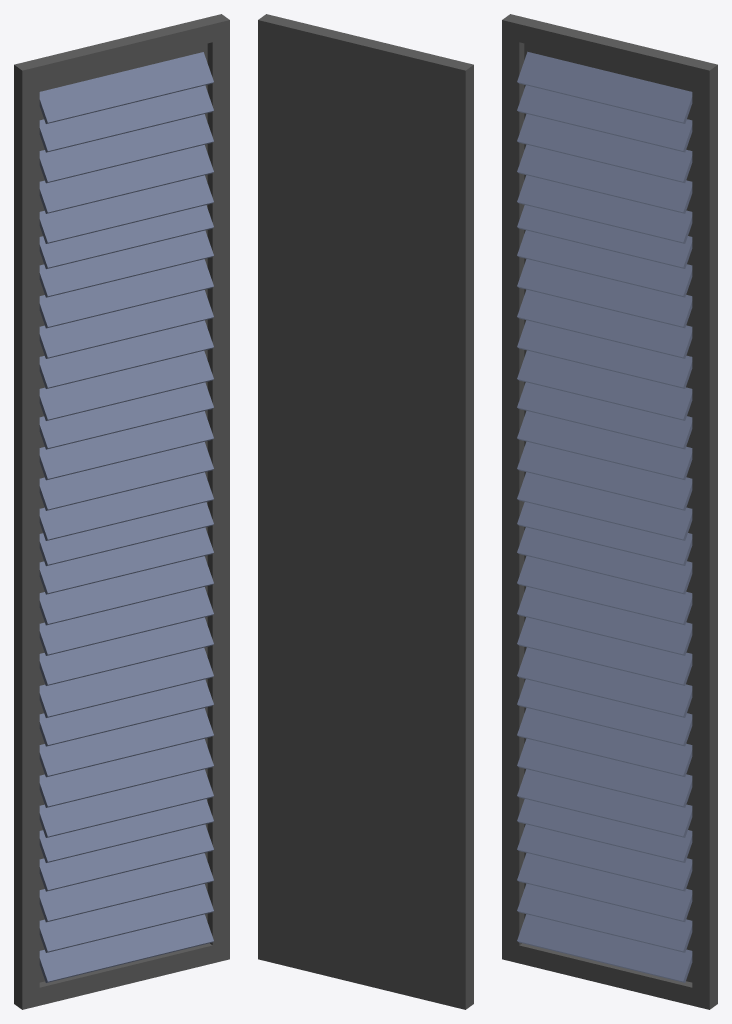
File: SM_exterior_wall_sp_01.fbx
3 views of the same model, side by side, from view 1: azimuth 30°, elevation 25°; view 2: azimuth 150°, elevation 25°; view 3: azimuth 330°, elevation 25° (orthographic).
Parts seen in each view (by area): view 1: exterior_wall_sp_01; view 2: exterior_wall_sp_01; view 3: exterior_wall_sp_01.
Part boxes in pixels (<box>): exterior_wall_sp_01: <box>14,14,229,1009</box>; exterior_wall_sp_01: <box>258,14,473,1009</box>; exterior_wall_sp_01: <box>502,14,717,1009</box>.
Bounding box in the file's own units: 95.95 × 415 × 10.84.
